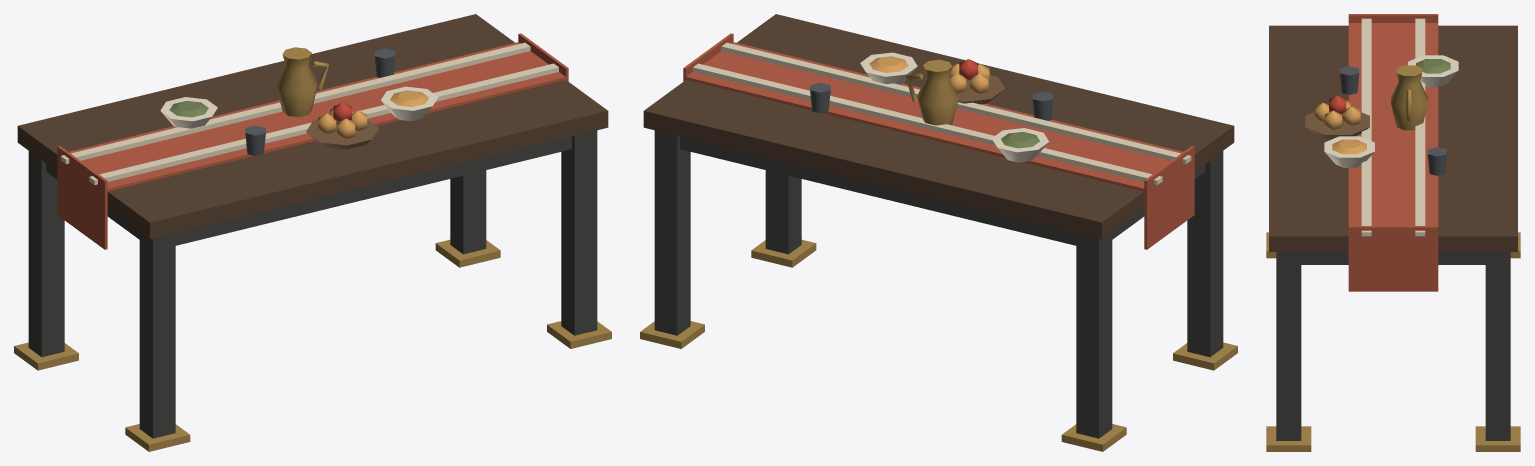
The model's file is diner_table.glb.
The picture shows the model from 3 angles, left to right: view 1: azimuth 30°, elevation 25°; view 2: azimuth 150°, elevation 25°; view 3: azimuth 270°, elevation 25°; orthographic projection. The views are drawn at different scales.
Parts seen in each view (by area): view 1: diner_table; view 2: diner_table; view 3: diner_table.
Part boxes in pixels (left/top/right/bottom): diner_table: left=14, top=14, right=611, bottom=451; diner_table: left=640, top=14, right=1237, bottom=451; diner_table: left=1266, top=14, right=1520, bottom=451.
Size of the model in its own units: 2.05 by 1.2 by 1.02.
